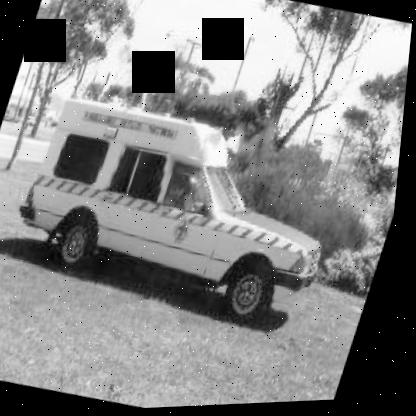emergency: (0, 65, 372, 350)
